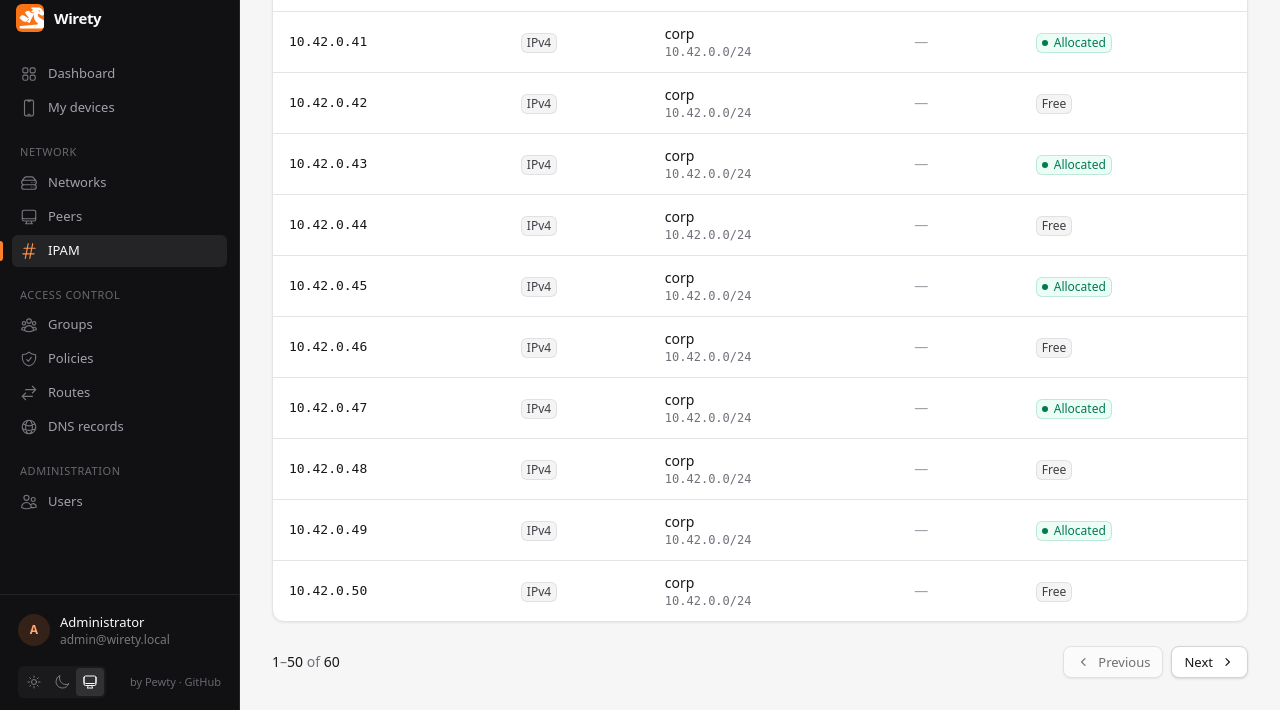
Scenario: IP address management › pages through the addresses
The image size is (1280, 710).
(page scrolled)
Expected: the text "10.42.0.50" is shown, x1=289 y1=583 x2=367 y2=598
Expected: the text "10.42.0.51" is not shown
Click the button "Next": (1210, 662) x1=1172 y1=646 x2=1248 y2=678
(page scrolled)
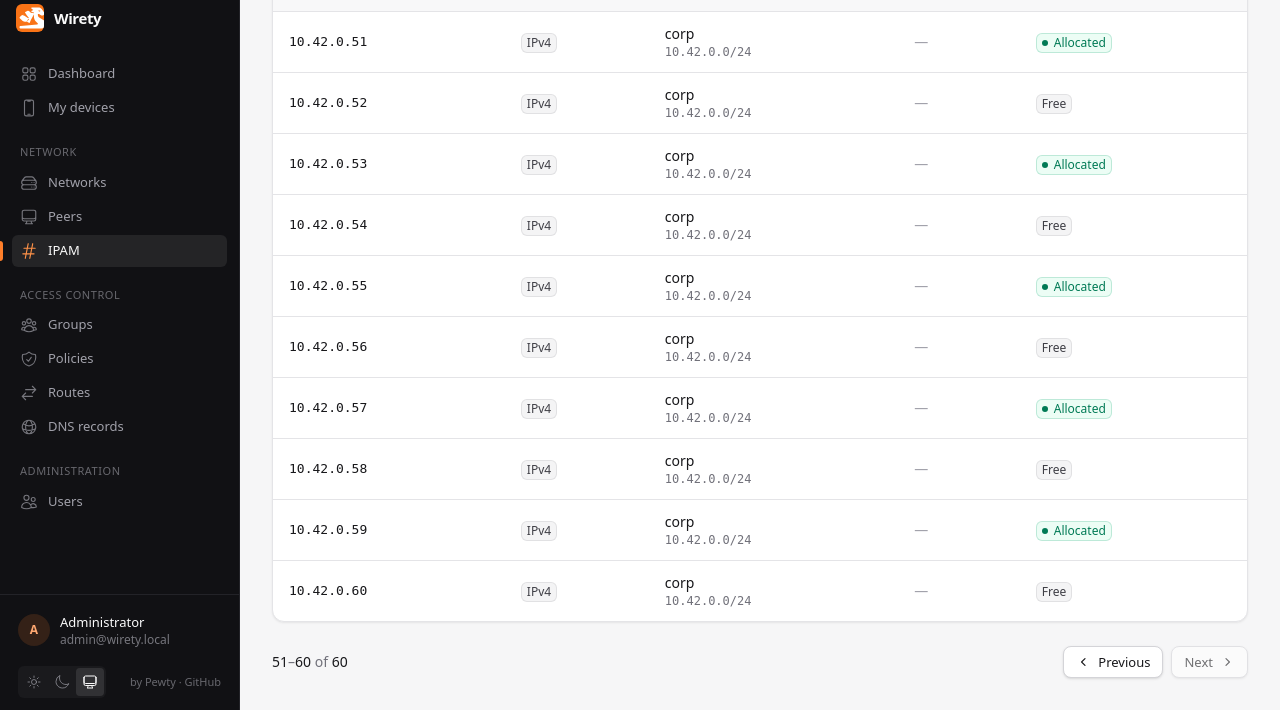
Now the text "10.42.0.51" is shown, box x1=289 y1=34 x2=367 y2=49
Now the text "10.42.0.50" is gone
